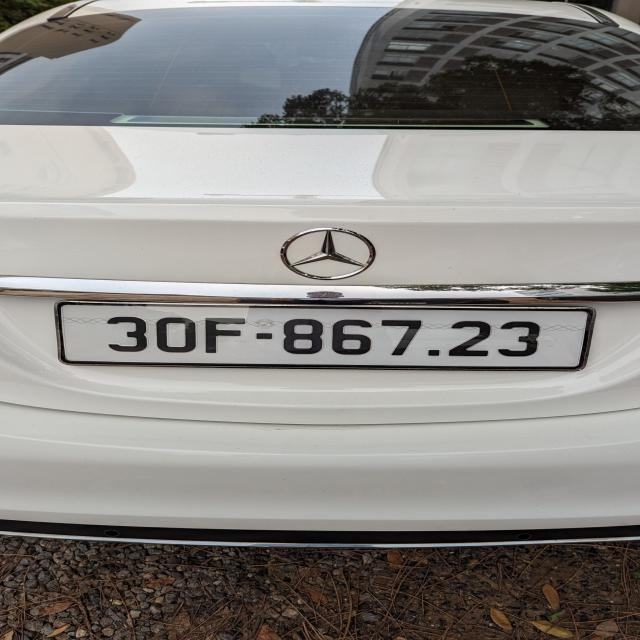License: (54, 299, 596, 372)
